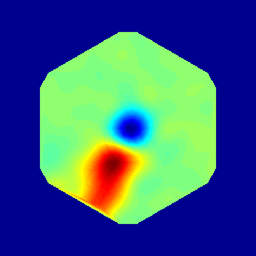ship: (115, 115, 143, 149)
wave: (94, 139, 136, 199)
